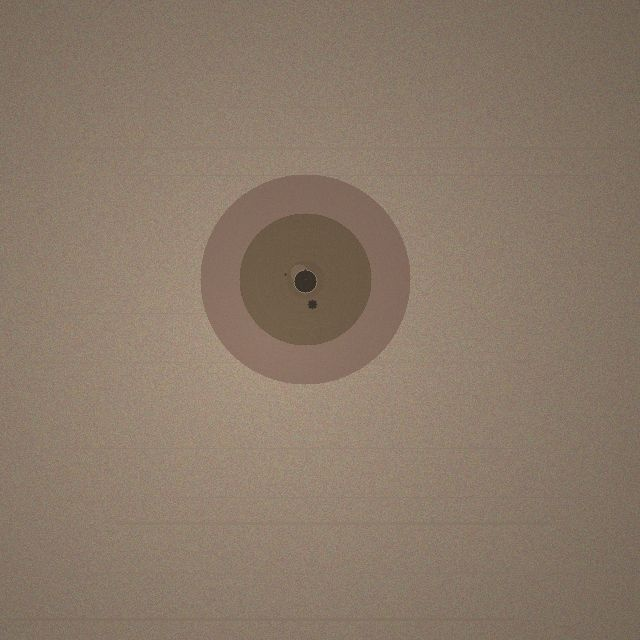shrinkage: (200, 174, 410, 384)
